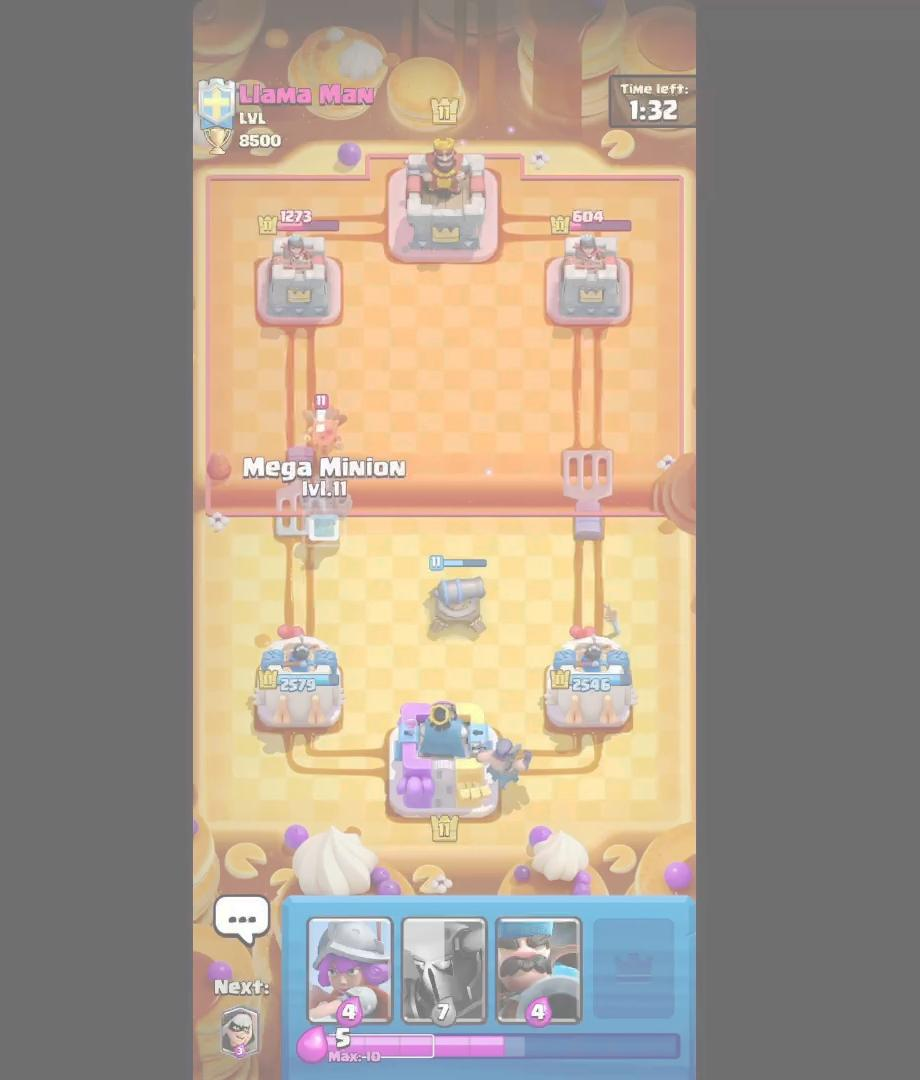Dart Goblin: (301, 392, 357, 460)
